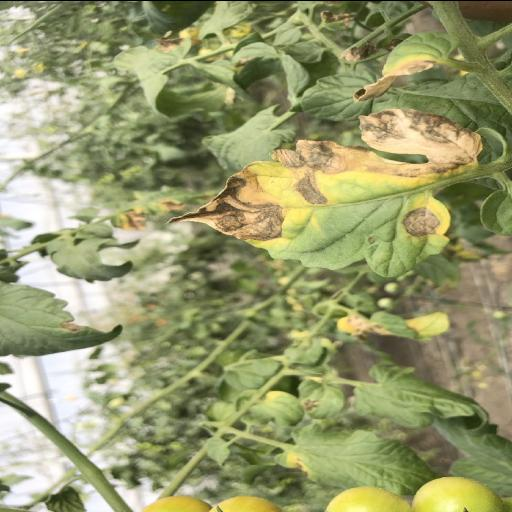Early Blight: (166, 105, 484, 280)
